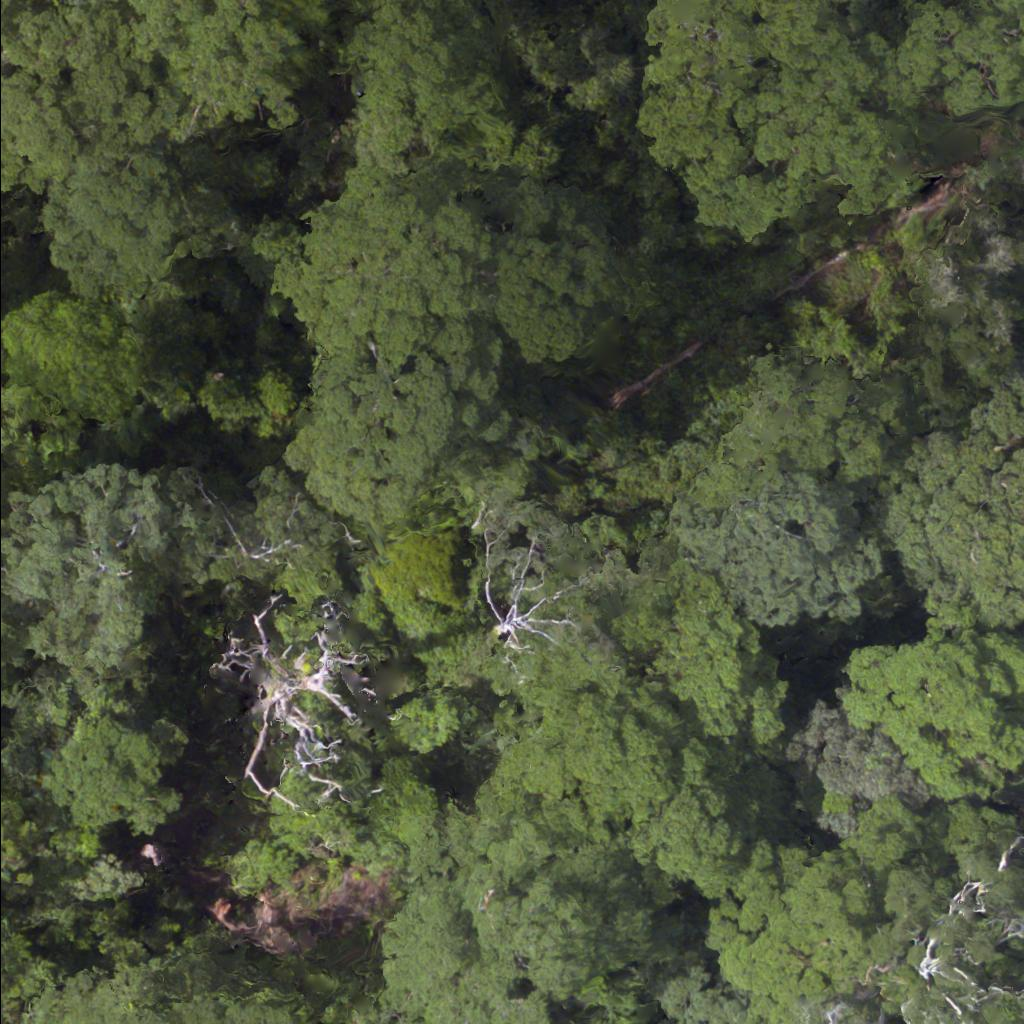crown: (634, 0, 944, 233), (884, 0, 1023, 111)
